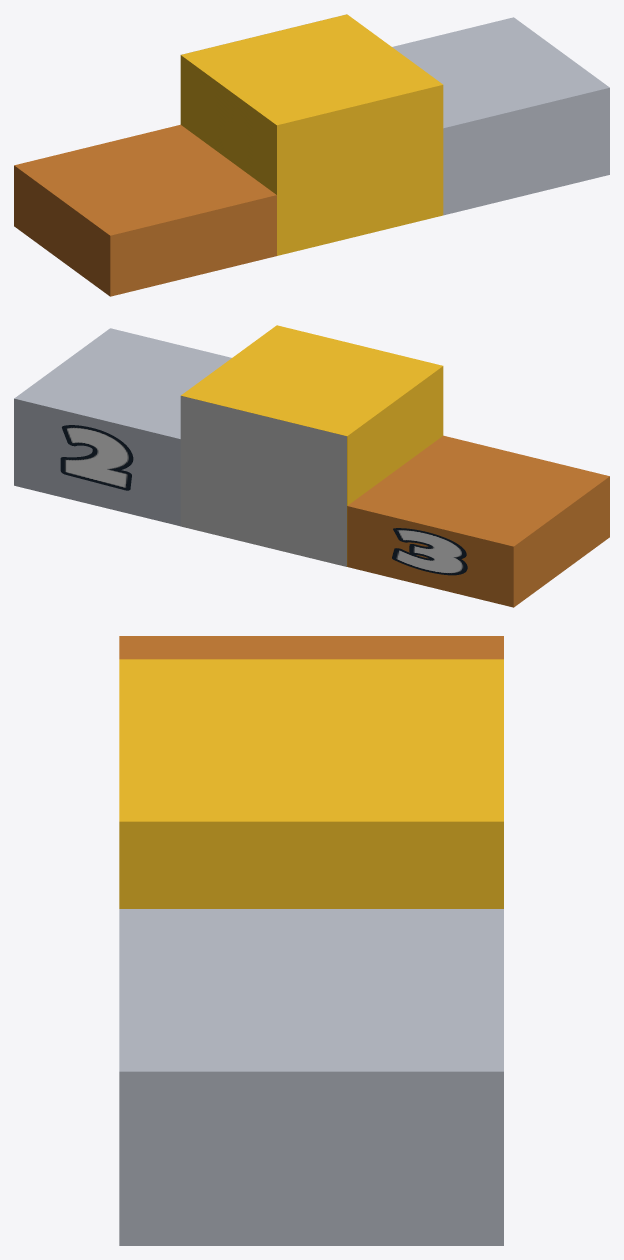
File: winners_podium.obj
3 renders of one model, top to bottom at view 1: azimuth 30°, elevation 25°; view 2: azimuth 150°, elevation 25°; view 3: azimuth 270°, elevation 25°, orthographic. The views are drawn at different scales.
Visible parts, largest first — view 1: First, Third, Second; view 2: Third, Second, First, First_Number, Second_Number, Third_Number; view 3: Second, First, Third.
Part boxes in pixels (x1,y1,x2,y2): First: (180,14,443,255); Third: (14,124,276,296); Second: (392,17,609,215); Third: (347,435,609,607); Second: (14,328,231,526); First: (181,325,443,566); First_Number: (180,396,346,566); Second_Number: (60,425,133,490); Third_Number: (392,528,467,575); Second: (119,909,503,1245); First: (119,659,503,908); Third: (119,636,503,659).
Bounding box in the file's own units: 12 × 3 × 4.01.
